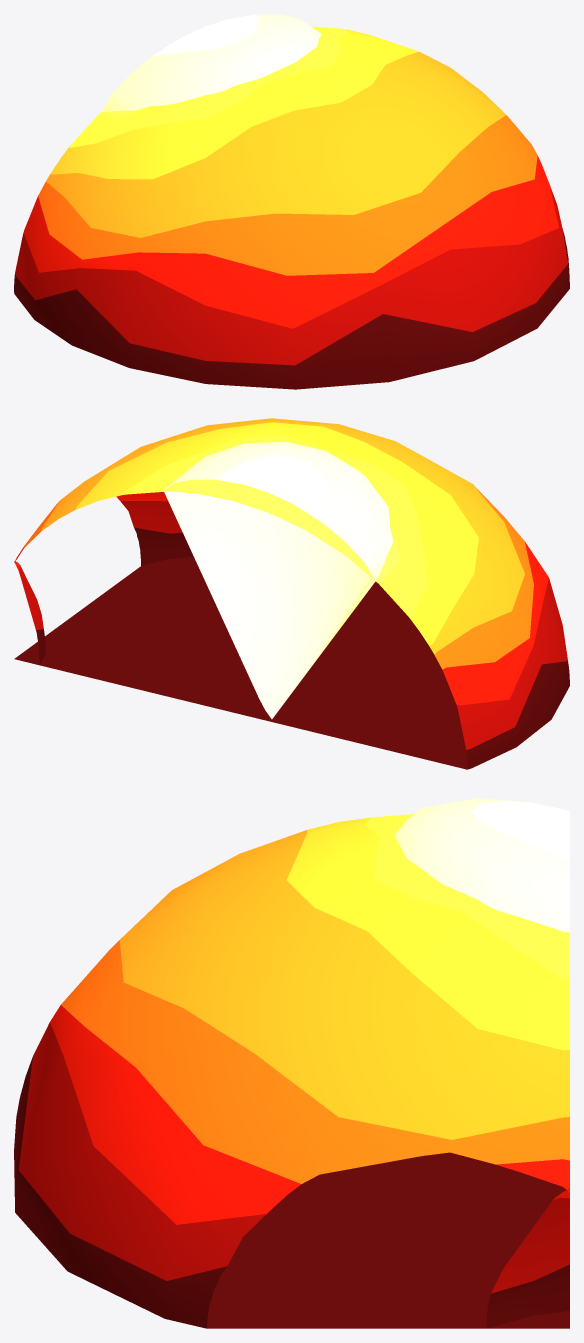
The model's file is shot_charge_b224.glb.
3 views of the same model, one above another, from view 1: azimuth 30°, elevation 25°; view 2: azimuth 150°, elevation 25°; view 3: azimuth 270°, elevation 25° (orthographic). The views are drawn at different scales.
Parts seen in each view (by area): view 1: charge_twin3_b_fire_shot_charge_b224, charge_twin3_b_core_shot_charge_b224; view 2: charge_twin3_b_fire_shot_charge_b224, charge_twin3_b_core_shot_charge_b224, charge_twin3_a_fire_shot_charge_b224; view 3: charge_twin3_b_fire_shot_charge_b224, charge_twin3_b_core_shot_charge_b224, charge_twin3_a_fire_shot_charge_b224.
Part boxes in pixels (x1,y1,x2,y2): charge_twin3_b_fire_shot_charge_b224: (14,26,569,389); charge_twin3_b_core_shot_charge_b224: (102,14,321,111); charge_twin3_b_fire_shot_charge_b224: (14,418,569,769); charge_twin3_b_core_shot_charge_b224: (164,441,392,718); charge_twin3_a_fire_shot_charge_b224: (14,561,45,664); charge_twin3_b_fire_shot_charge_b224: (14,814,569,1328); charge_twin3_b_core_shot_charge_b224: (394,798,569,932); charge_twin3_a_fire_shot_charge_b224: (486,1189,569,1328).
Bounding box in the file's own units: 10.97 × 5.37 × 7.92.
